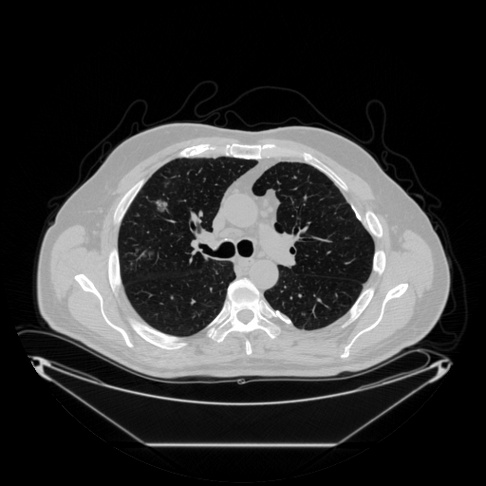PN: (155, 200, 165, 210)
